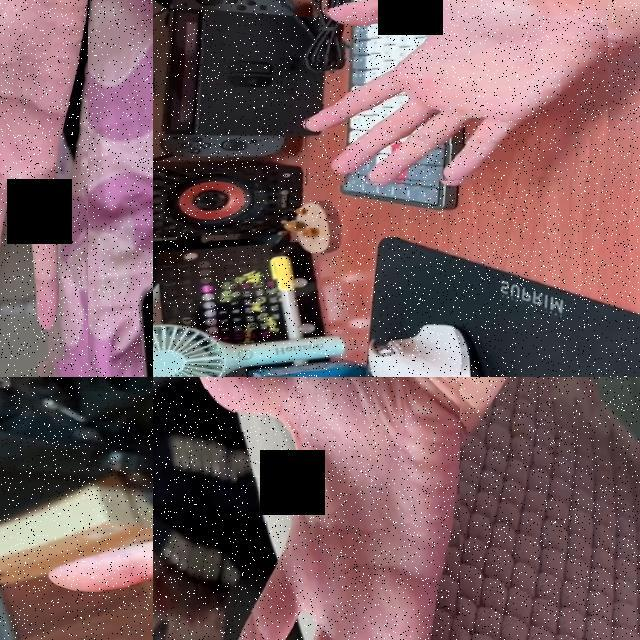keyboard-with-hands: (346, 0, 472, 205)
